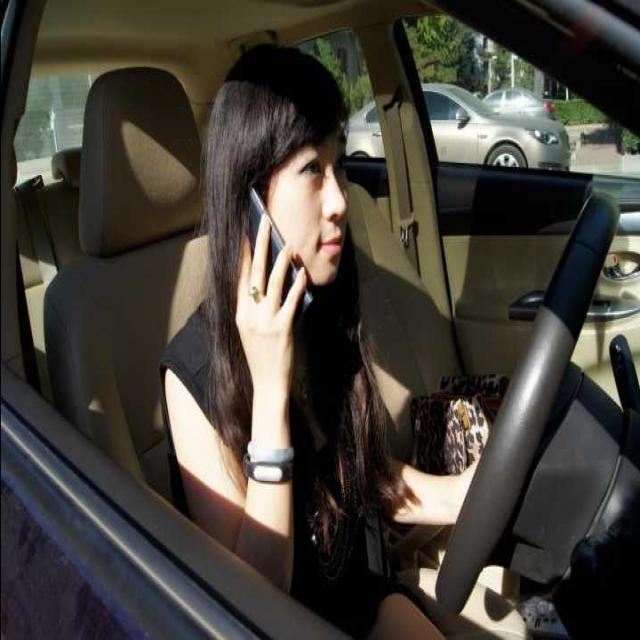phone: (213, 139, 331, 353)
